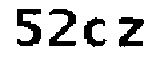2: (46, 5, 80, 50)
5: (12, 5, 44, 49)
c: (82, 14, 110, 50)
z: (115, 16, 146, 48)
